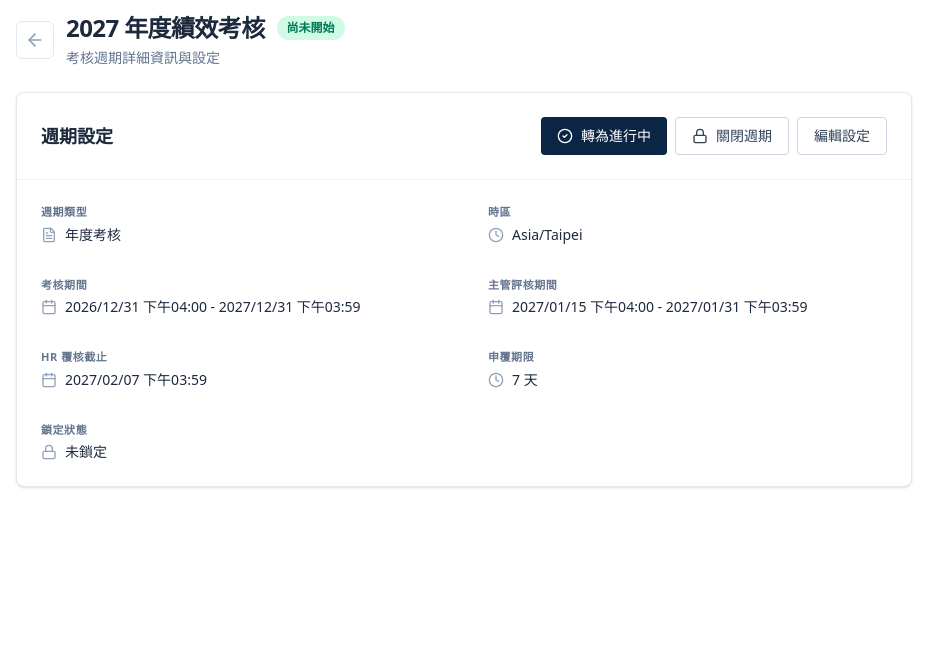
HR performance cycle pages › loads cycle detail, updates settings, and advances status
expect the heading "2027 年度績效考核" is shown: met, box [66,12,265,44]
Click the button "編輯設定" at [842, 136], box [797,117,887,155]
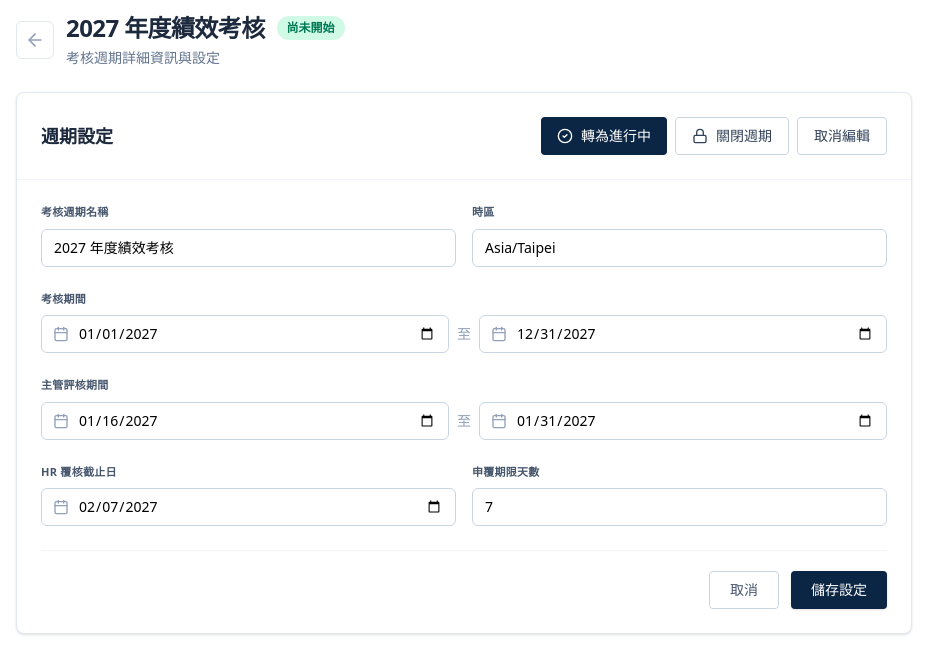
Replace the text in the field labelled "考核週期名稱" with "2027 年度績效考核 修正版" at [248, 248], box [41,228,456,266]
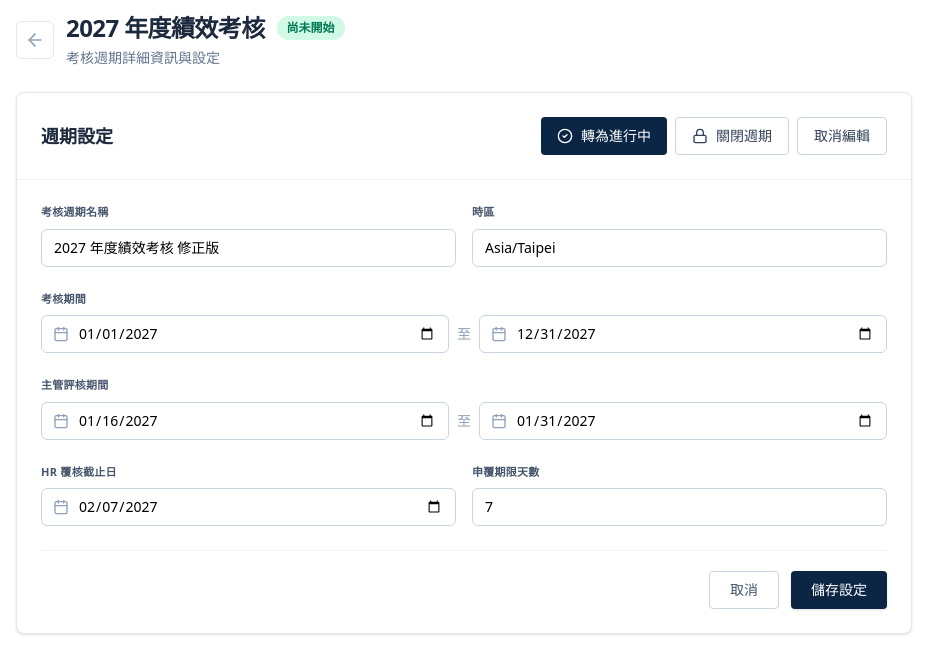
Type "2027-02-02" into the date field named "主管評核結束日" at [683, 420], box [479,402,887,440]
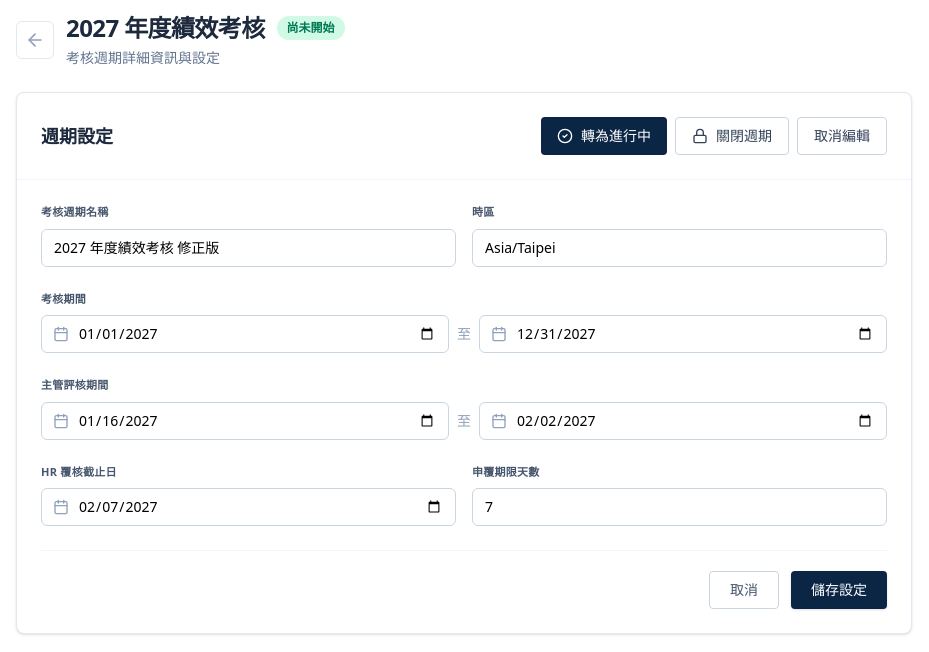
Click the button "儲存設定" at [839, 590], box [791,571,887,609]
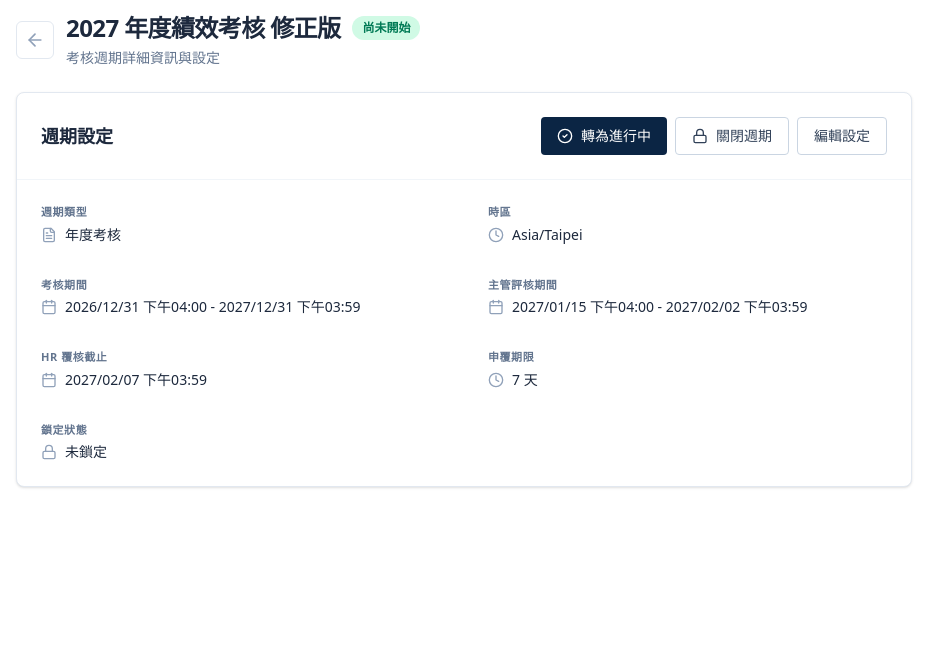
expect the heading "2027 年度績效考核 修正版" is shown: met, box [66,12,340,44]
Click the button "轉為進行中" at [604, 136], box [541,117,667,155]
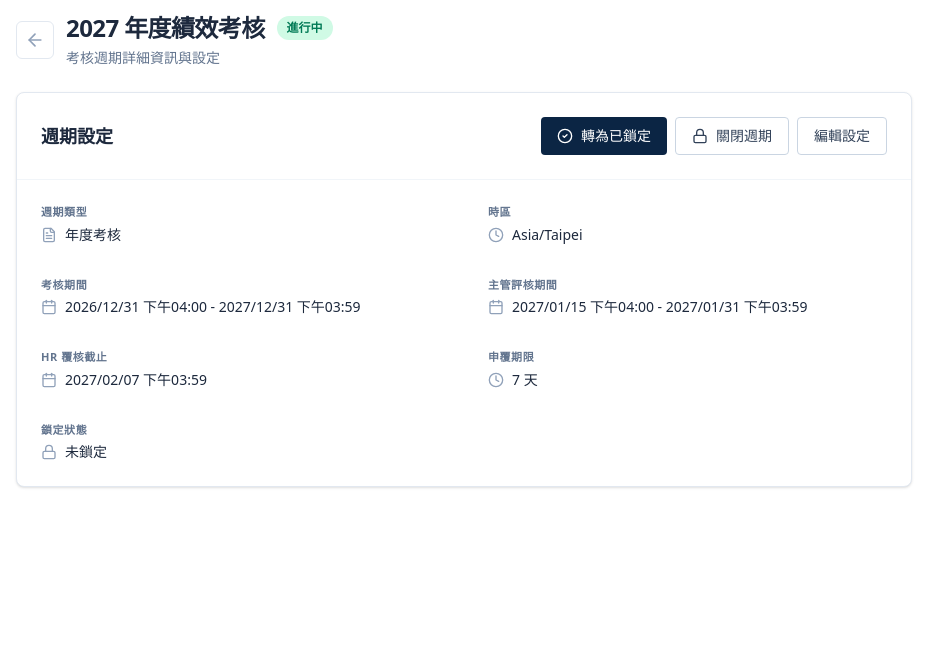
expect the text "進行中" is shown: met, box [277,16,333,40]
